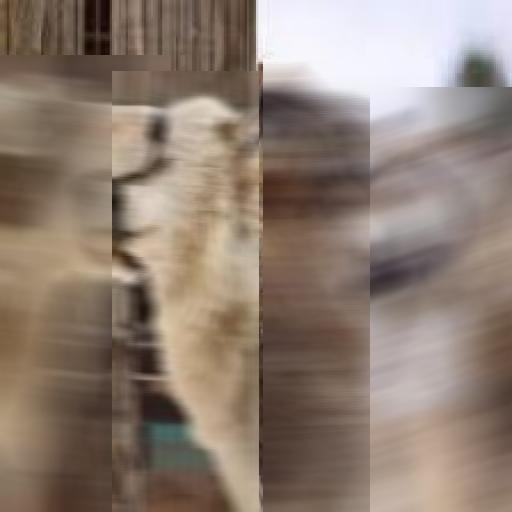wolf: (0, 55, 171, 512), (263, 59, 434, 512), (112, 71, 259, 512), (370, 87, 512, 512)
